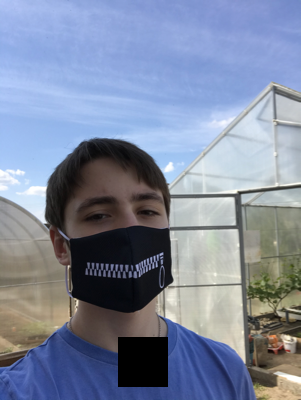with_mask: (63, 183, 174, 313)
